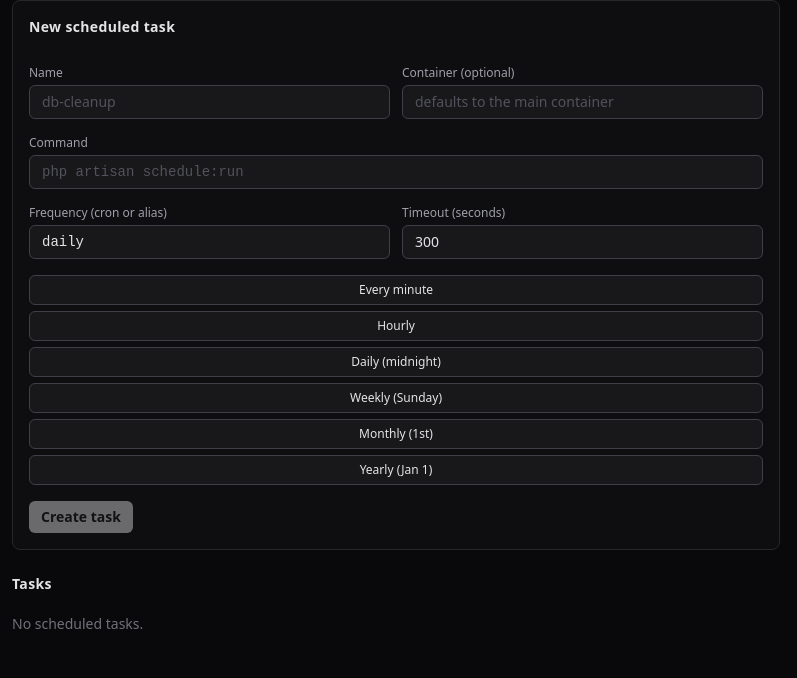
ScheduledTasks create form › blocks submit on an invalid frequency and enables on a valid one
Type "cleanup" into the field with placeholder "db-cleanup" at (210, 102), box [29,85,390,119]
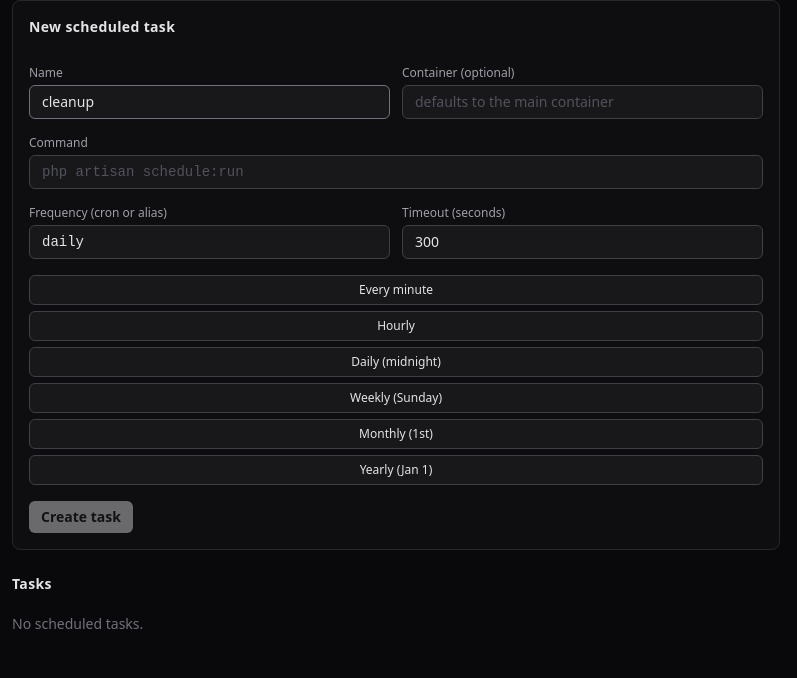
Type "echo hi" into the field with placeholder "php artisan schedule:run" at (396, 172), box [29,155,763,189]
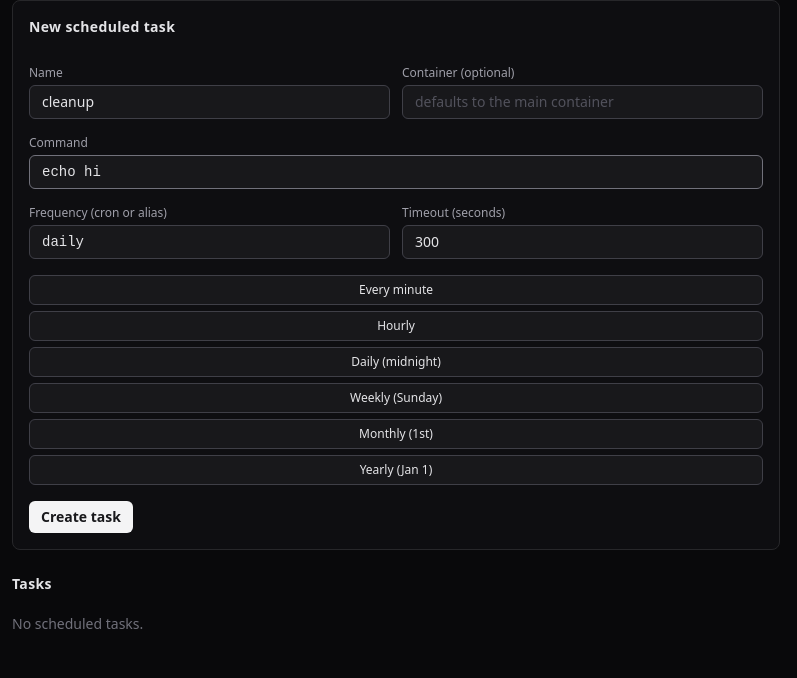
Replace the text in the field with placeholder "daily or 0 3 * * *" with "every other tuesday" at (210, 242), box [29,225,390,259]
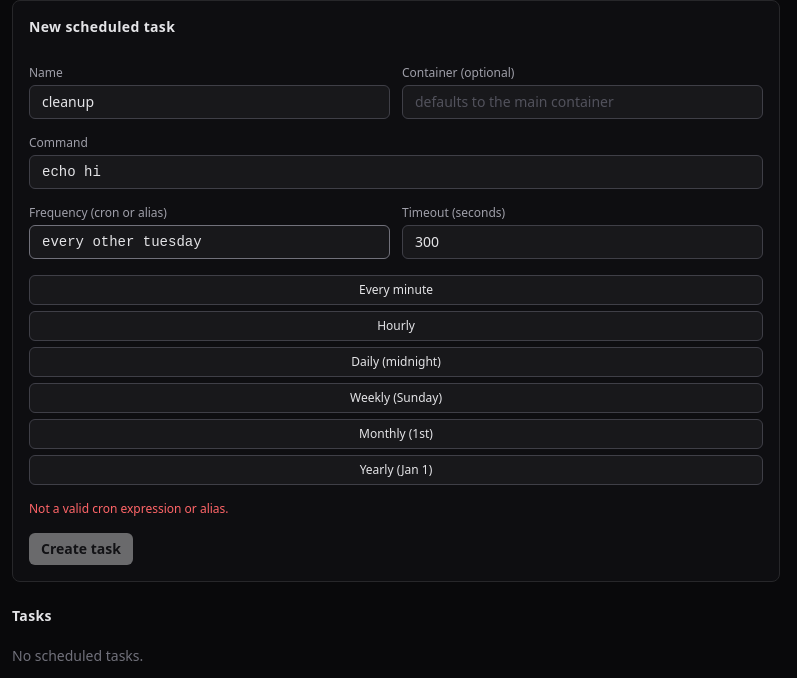
Check: the button "Create task" is disabled, box [29,533,133,565]
Check: the text "Not a valid cron expression or alias." is shown, box [29,500,229,517]
Replace the text in the field with placeholder "daily or 0 3 * * *" with "0 3 * * *" at (210, 242), box [29,225,390,259]
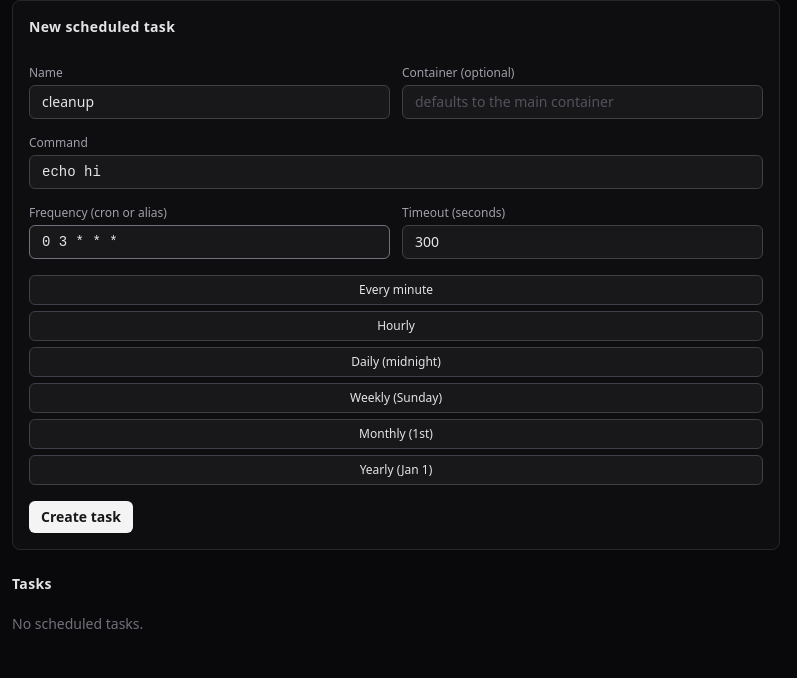
Check: the button "Create task" is enabled, box [29,501,133,533]
